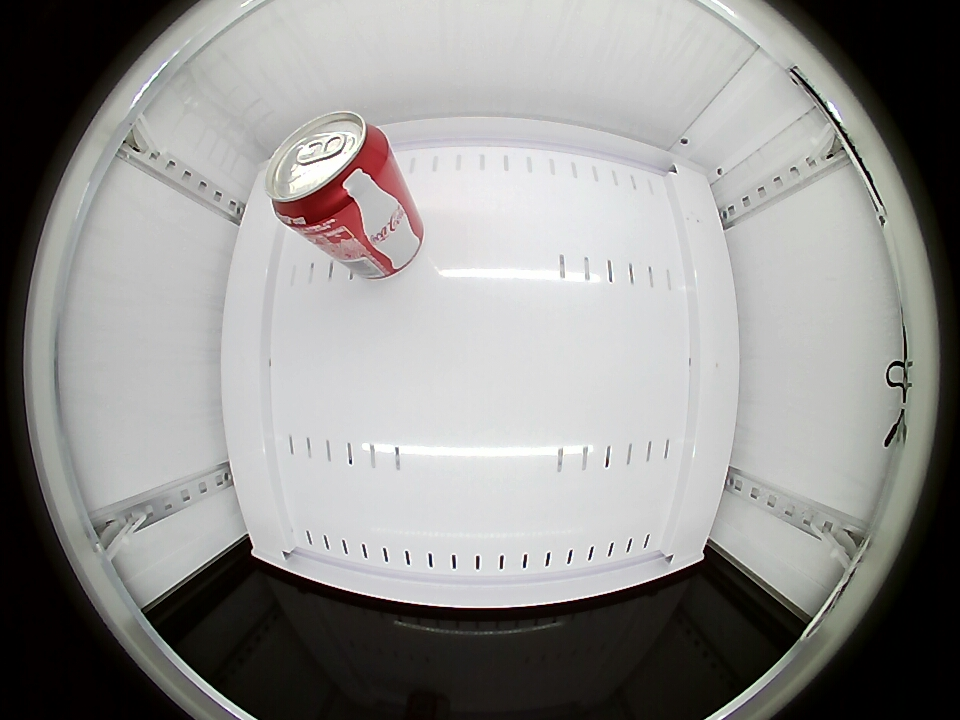kele: (265, 110, 390, 230)
